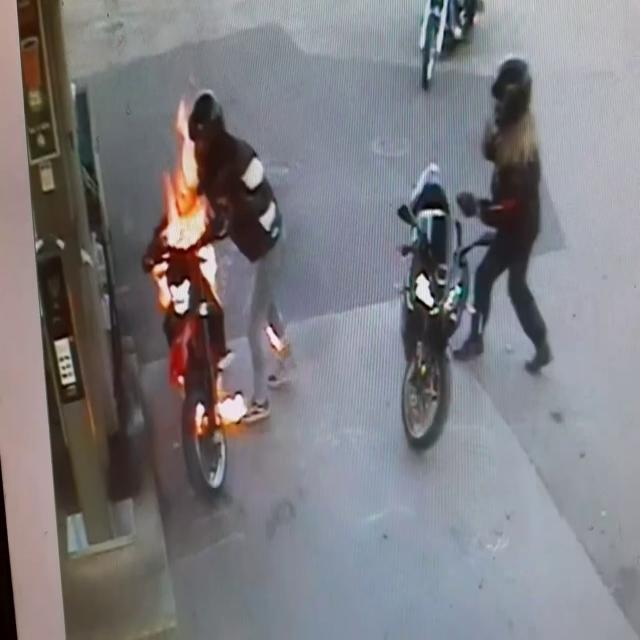Fire: (160, 90, 210, 250)
